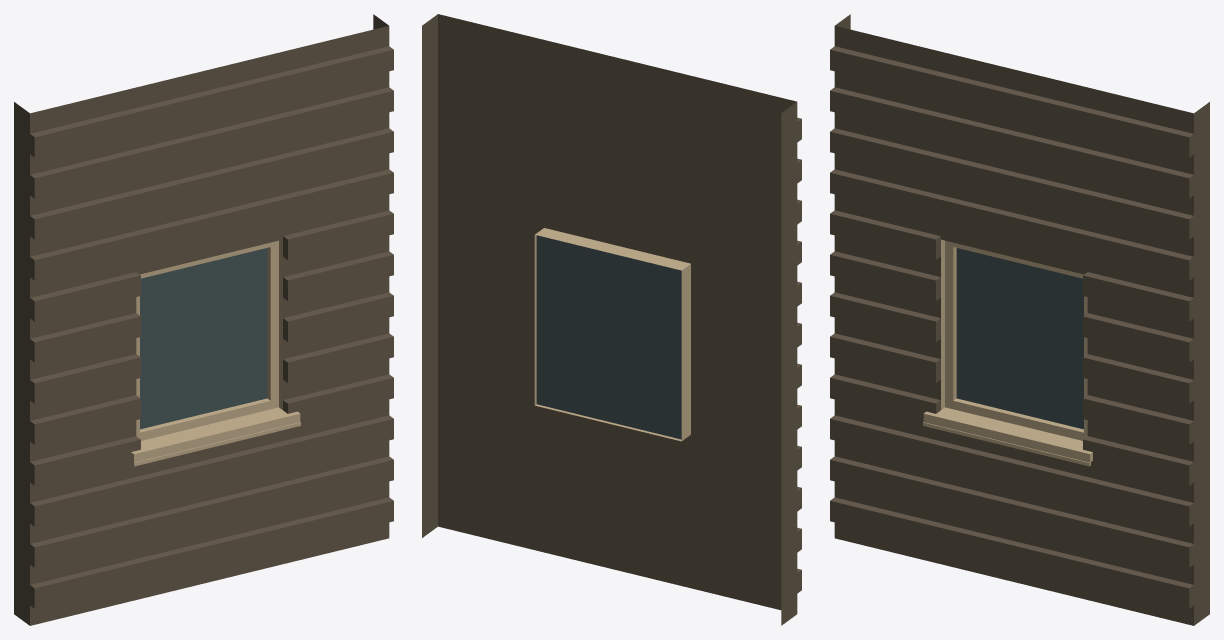
Rendered from mid-stair3_close.fbx.
3 renders of one model, left to right at view 1: azimuth 30°, elevation 25°; view 2: azimuth 150°, elevation 25°; view 3: azimuth 330°, elevation 25°, orthographic.
Parts seen in each view (by area): view 1: a2015/400/mid-stair_close; view 2: a2015/400/mid-stair_close; view 3: a2015/400/mid-stair_close.
Boxes of the visible parts, x1,y1,x2,y2 form: a2015/400/mid-stair_close: (14, 14, 393, 625); a2015/400/mid-stair_close: (422, 14, 801, 625); a2015/400/mid-stair_close: (830, 14, 1209, 625).
Bounding box in the file's own units: 2.2 × 3 × 0.255.
